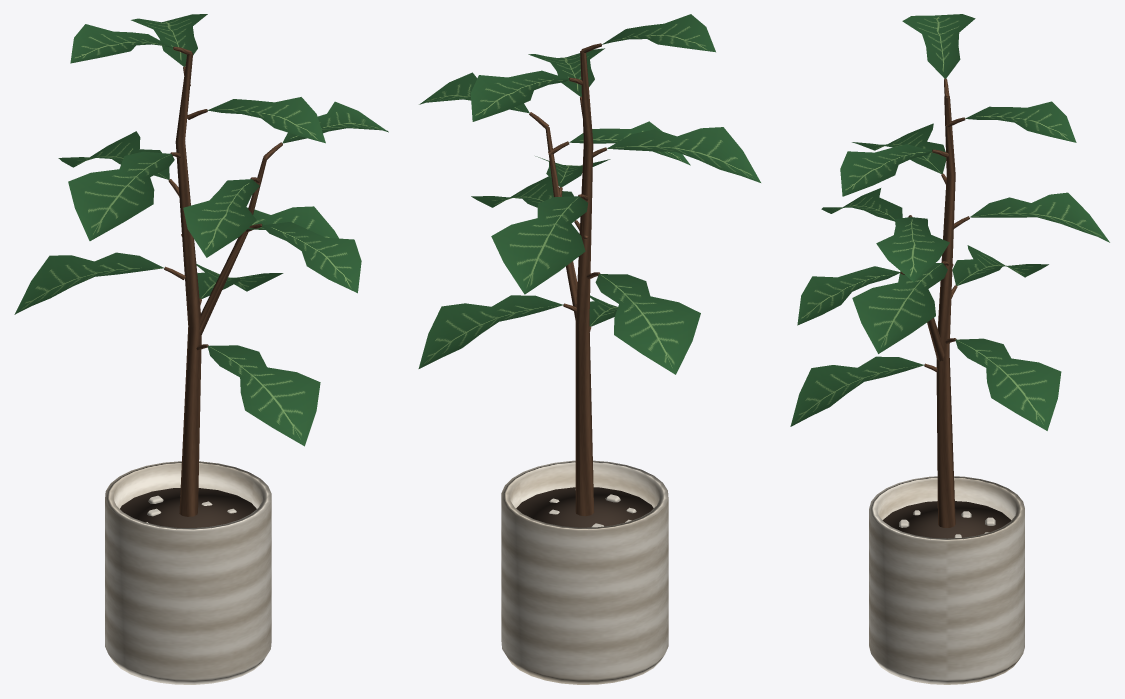
The model's file is obj_plant_fiddle_leaf_fig.glb.
3 renders of one model, left to right at view 1: azimuth 30°, elevation 25°; view 2: azimuth 150°, elevation 25°; view 3: azimuth 270°, elevation 25°, orthographic. The views are drawn at different scales.
Visible parts, largest first — view 1: obj_plant_fiddle_leaf_fig; view 2: obj_plant_fiddle_leaf_fig; view 3: obj_plant_fiddle_leaf_fig.
Part boxes in pixels (<box>): obj_plant_fiddle_leaf_fig: <box>14,14,388,684</box>; obj_plant_fiddle_leaf_fig: <box>418,14,760,684</box>; obj_plant_fiddle_leaf_fig: <box>790,14,1109,684</box>.
Bounding box in the file's own units: 0.8425 × 1.6 × 0.7799.
Materials: 5 (3 with a texture image).
